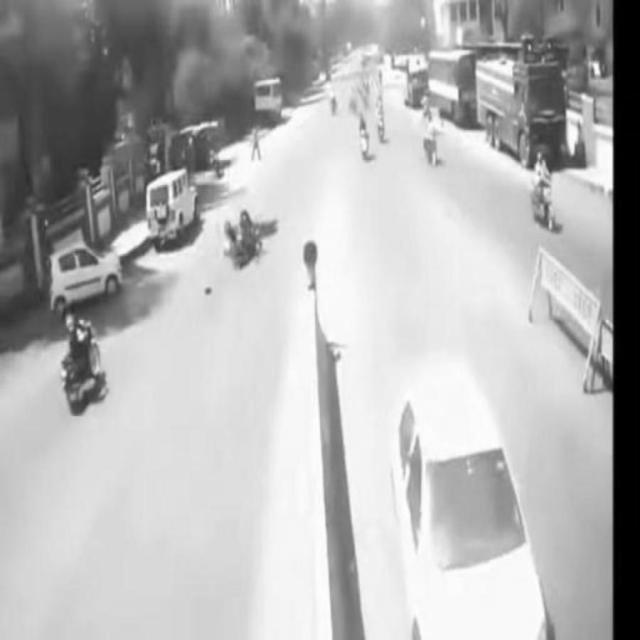vehicle: (390, 367, 554, 640), (478, 54, 572, 167), (53, 244, 126, 315), (53, 318, 105, 406), (146, 172, 201, 238), (221, 214, 282, 264), (531, 154, 558, 230)
